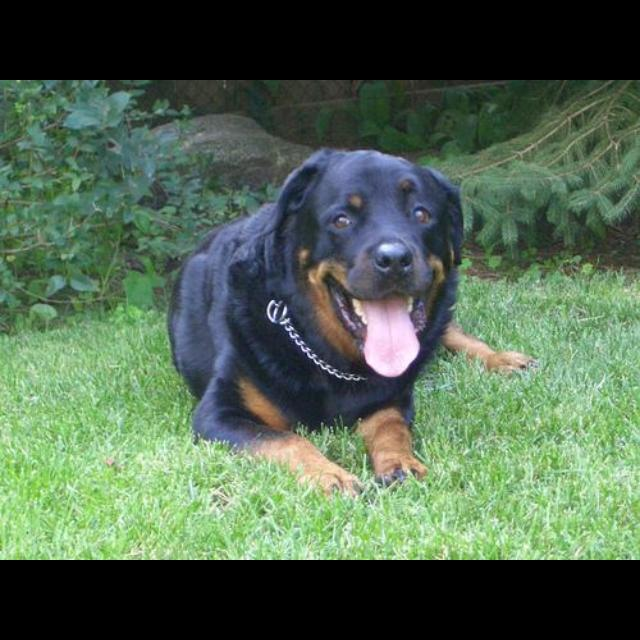rottweiler: (167, 147, 540, 502)
